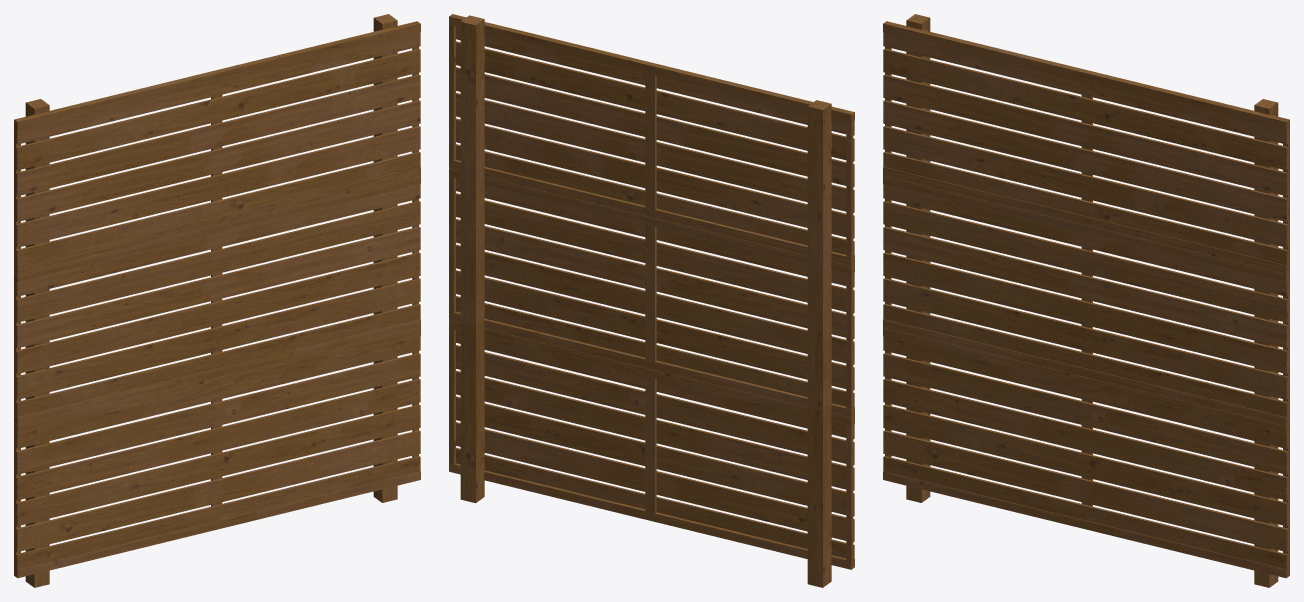
The model's file is eafyokoita-tadan_h24_naturalpine.fbx.
3 renders of one model, left to right at view 1: azimuth 30°, elevation 25°; view 2: azimuth 150°, elevation 25°; view 3: azimuth 330°, elevation 25°, orthographic.
Parts seen in each view (by area): view 1: eafyokoita-tadan_h24_naturalpine; view 2: eafyokoita-tadan_h24_naturalpine; view 3: eafyokoita-tadan_h24_naturalpine.
Part boxes in pixels (box(x1,y1,x2,y2)): eafyokoita-tadan_h24_naturalpine: box(14, 14, 420, 587); eafyokoita-tadan_h24_naturalpine: box(449, 14, 854, 587); eafyokoita-tadan_h24_naturalpine: box(883, 14, 1289, 587).
Bounding box in the file's own units: 200 × 227 × 10.25.
1 material, 1 textured.
